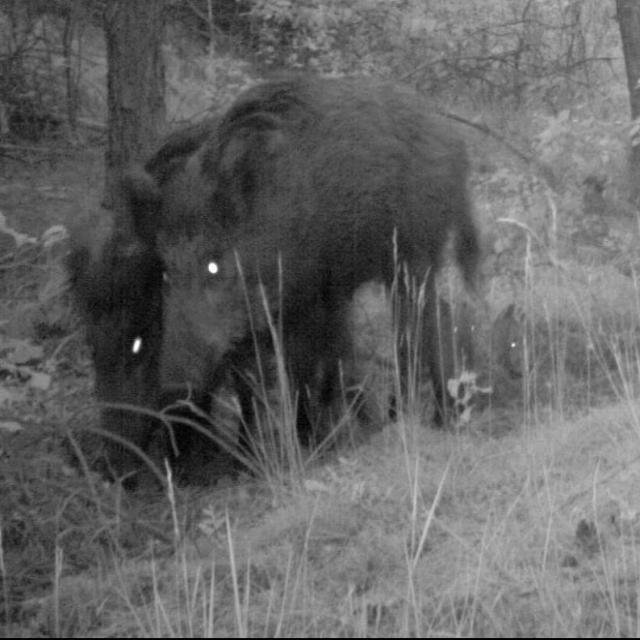pig: (161, 108, 492, 430), (33, 217, 184, 489)
